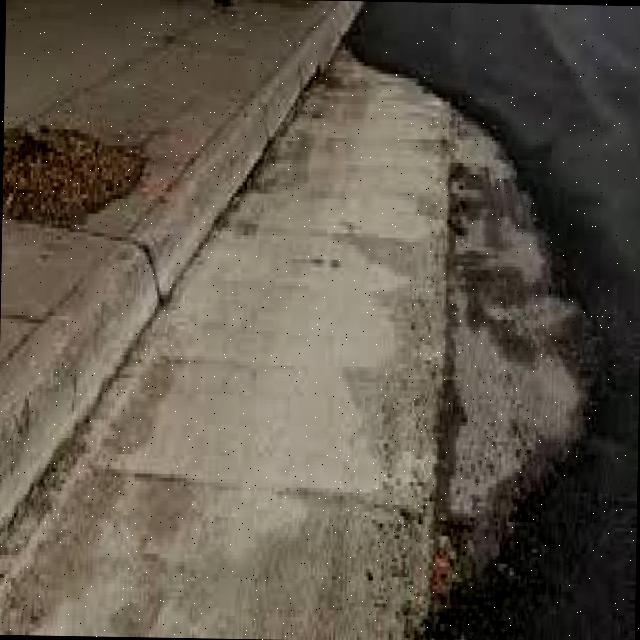curb: (1, 241, 146, 540), (160, 64, 302, 303), (293, 4, 364, 93)
